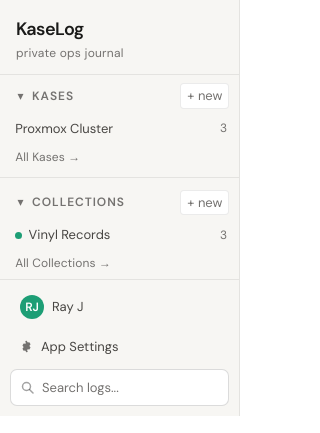
Scenario: LeftNav accordion sections › collapses and expands Kases section independently of Collections
This screenshot has width=320, height=433.
Expected: the text "Proxmox Cluster" is shown, [15, 119, 113, 138]
Expected: the text "Vinyl Records" is shown, [29, 225, 110, 245]
// Collapse Kases section
Click the button named "Toggle Kases section". click: (20, 96)
box: [17, 88, 23, 104]
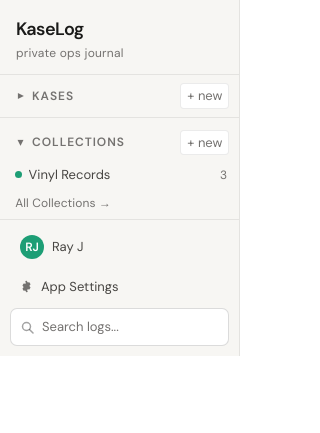
Expected: the text "Vinyl Records" is shown, [29, 165, 110, 185]
Result: the text "Proxmox Cluster" is gone
